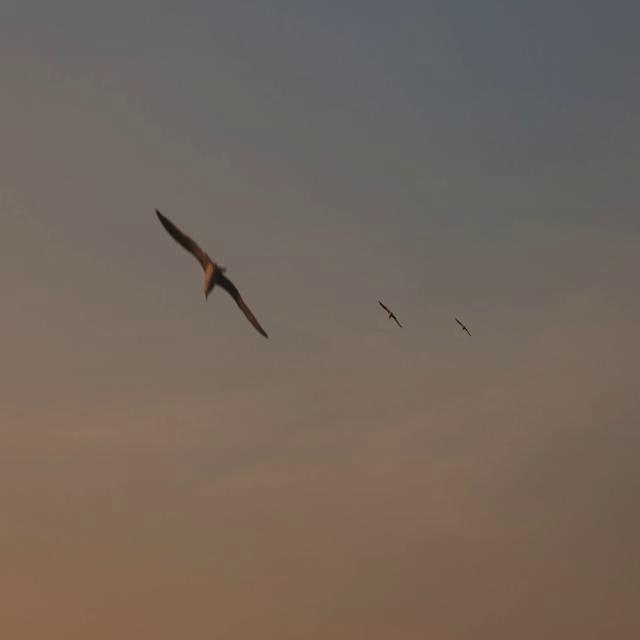bird: (154, 208, 272, 340), (376, 300, 403, 328), (453, 318, 472, 338)
